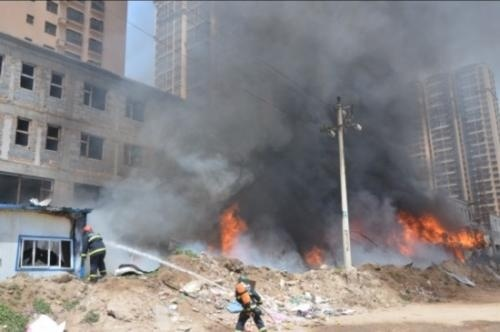fire: (382, 208, 487, 259), (215, 203, 247, 252), (300, 240, 331, 267)
